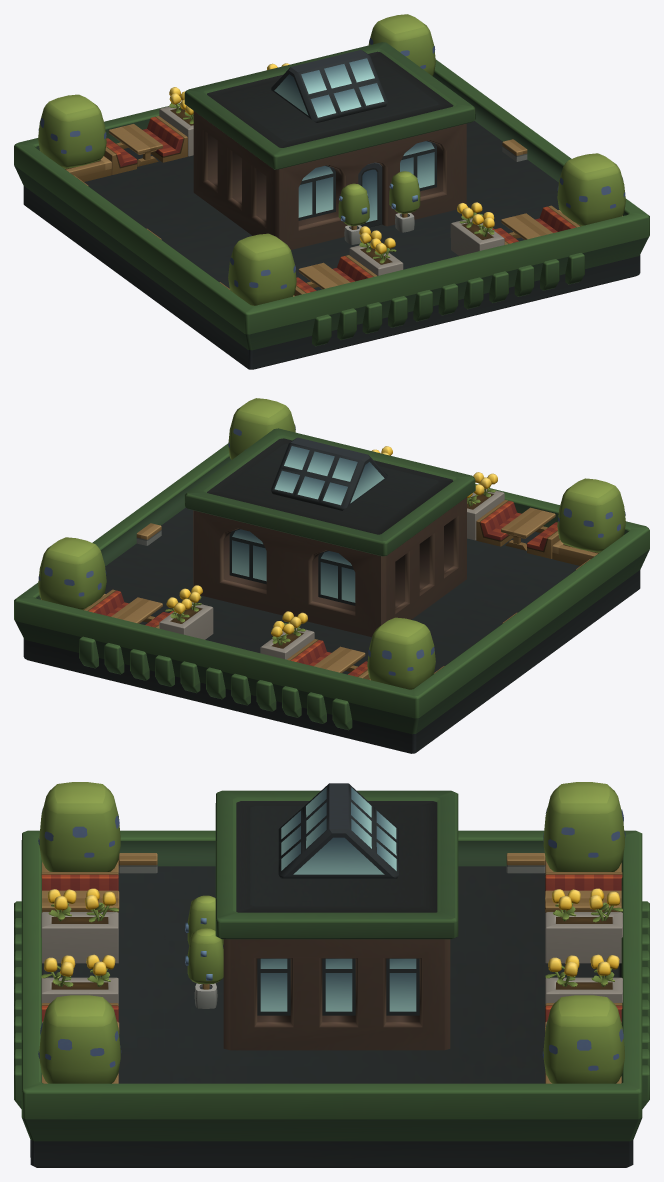
Rendered from office_building_type1_roof_brown_deco.fbx.
The picture shows the model from 3 angles, top to bottom: view 1: azimuth 30°, elevation 25°; view 2: azimuth 150°, elevation 25°; view 3: azimuth 270°, elevation 25°; orthographic projection. The views are drawn at different scales.
Visible parts, largest first — view 1: office_building_type1_roof_brown_deco, door_office_building_type1_roof_brown_deco; view 2: office_building_type1_roof_brown_deco; view 3: office_building_type1_roof_brown_deco.
Part boxes in pixels (left/top/right/bottom): office_building_type1_roof_brown_deco: left=14, top=14, right=649, bottom=369; door_office_building_type1_roof_brown_deco: left=358, top=162, right=382, bottom=227; office_building_type1_roof_brown_deco: left=14, top=398, right=649, bottom=753; office_building_type1_roof_brown_deco: left=14, top=782, right=649, bottom=1167.
Size of the model in its own units: 1600 by 671 by 1640.
